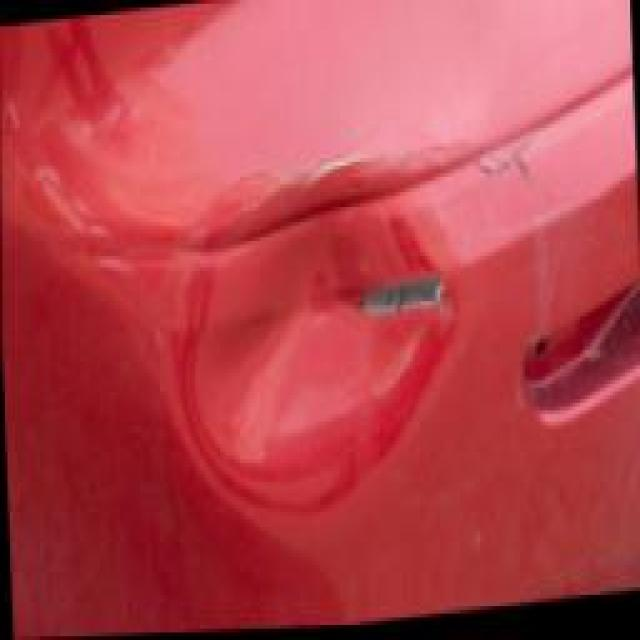Bumper: (15, 68, 632, 624)
